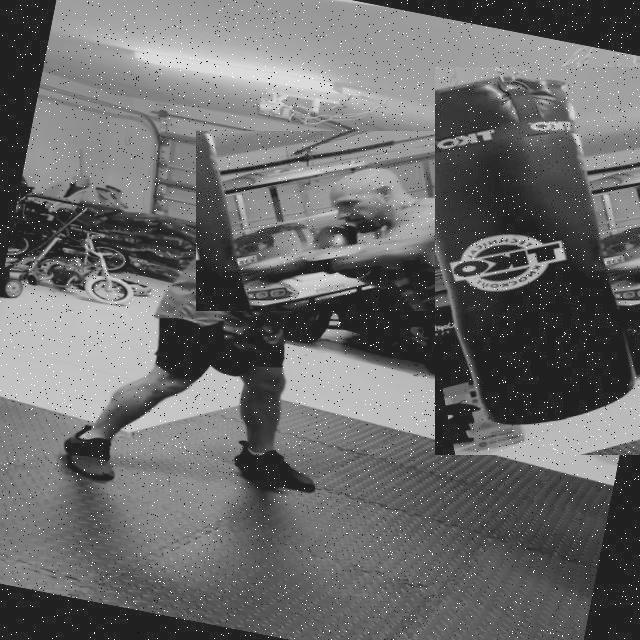punch: (196, 131, 512, 311)
